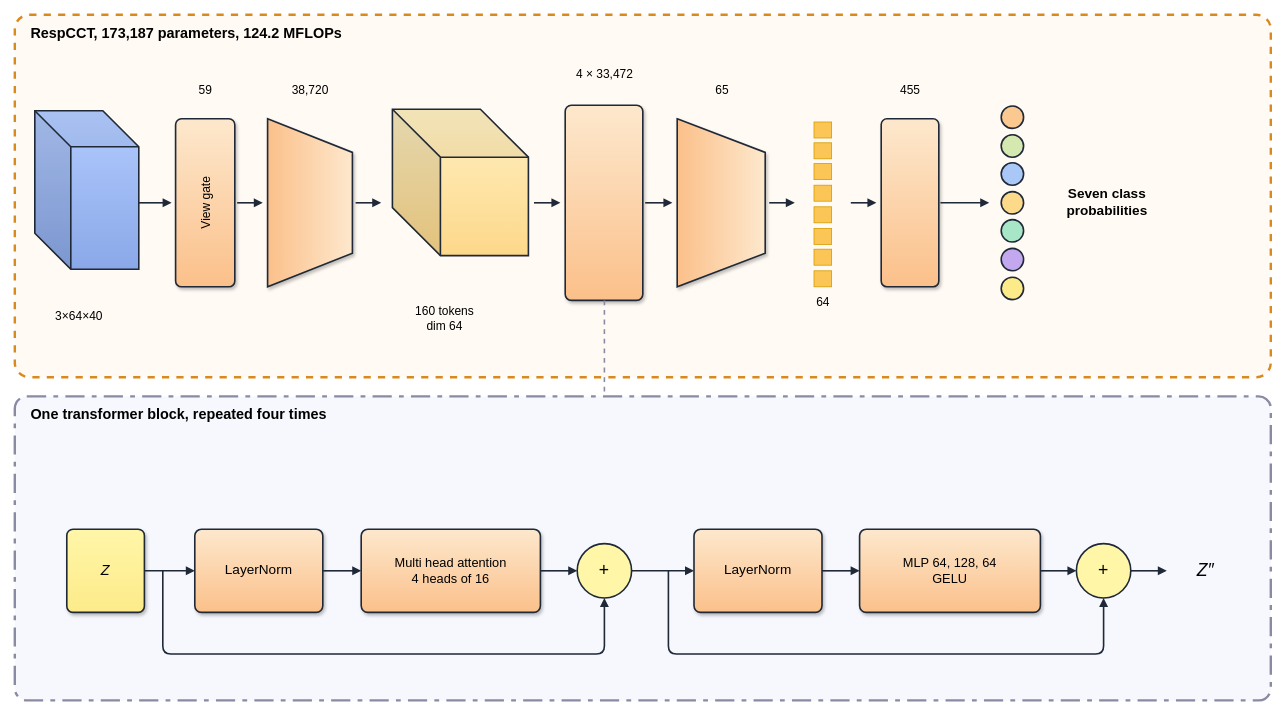
Some shapes in this 1286 by 715 pixel diagram are drawn without their labels. The centre of each missing label's shape, as x and y in pixels:
Conv tokenizer: [310,203]
Linear: [910,203]
SeqPool: [721,203]
Transformer: [604,203]
